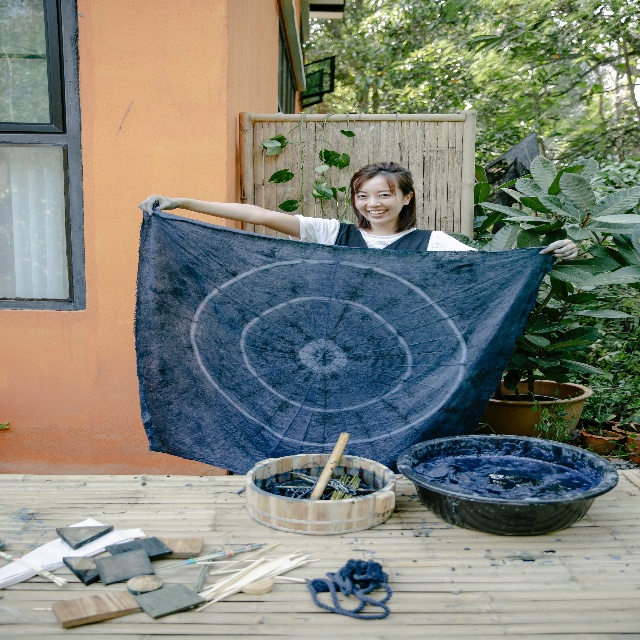Sin_guantes: (539, 238, 578, 261), (138, 191, 169, 216)
